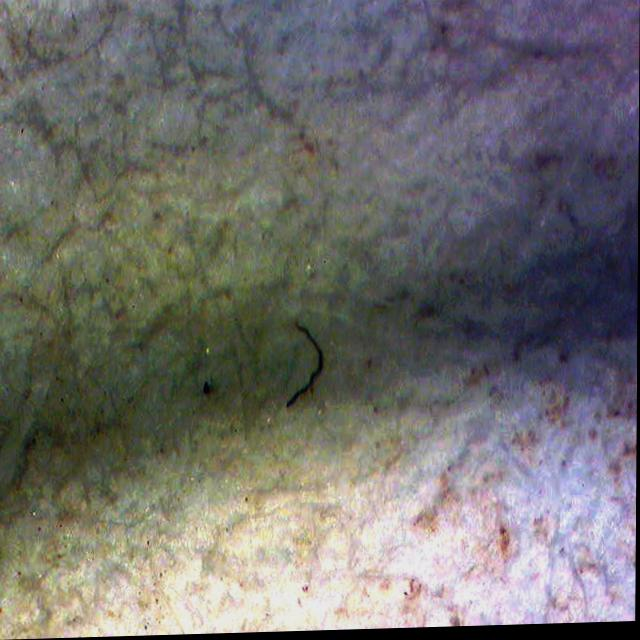microplastic: (288, 329, 324, 409)
